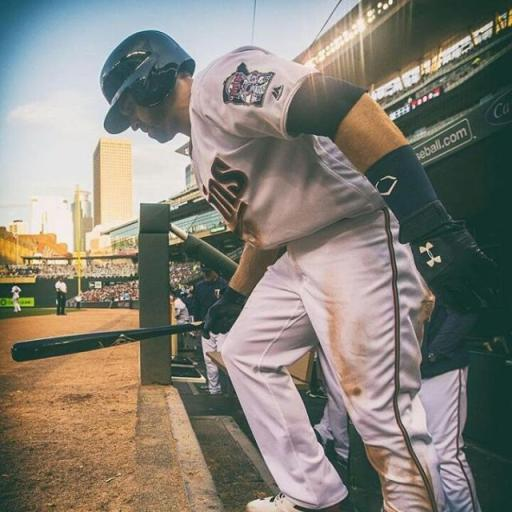Under Armour: (417, 240, 444, 271)
